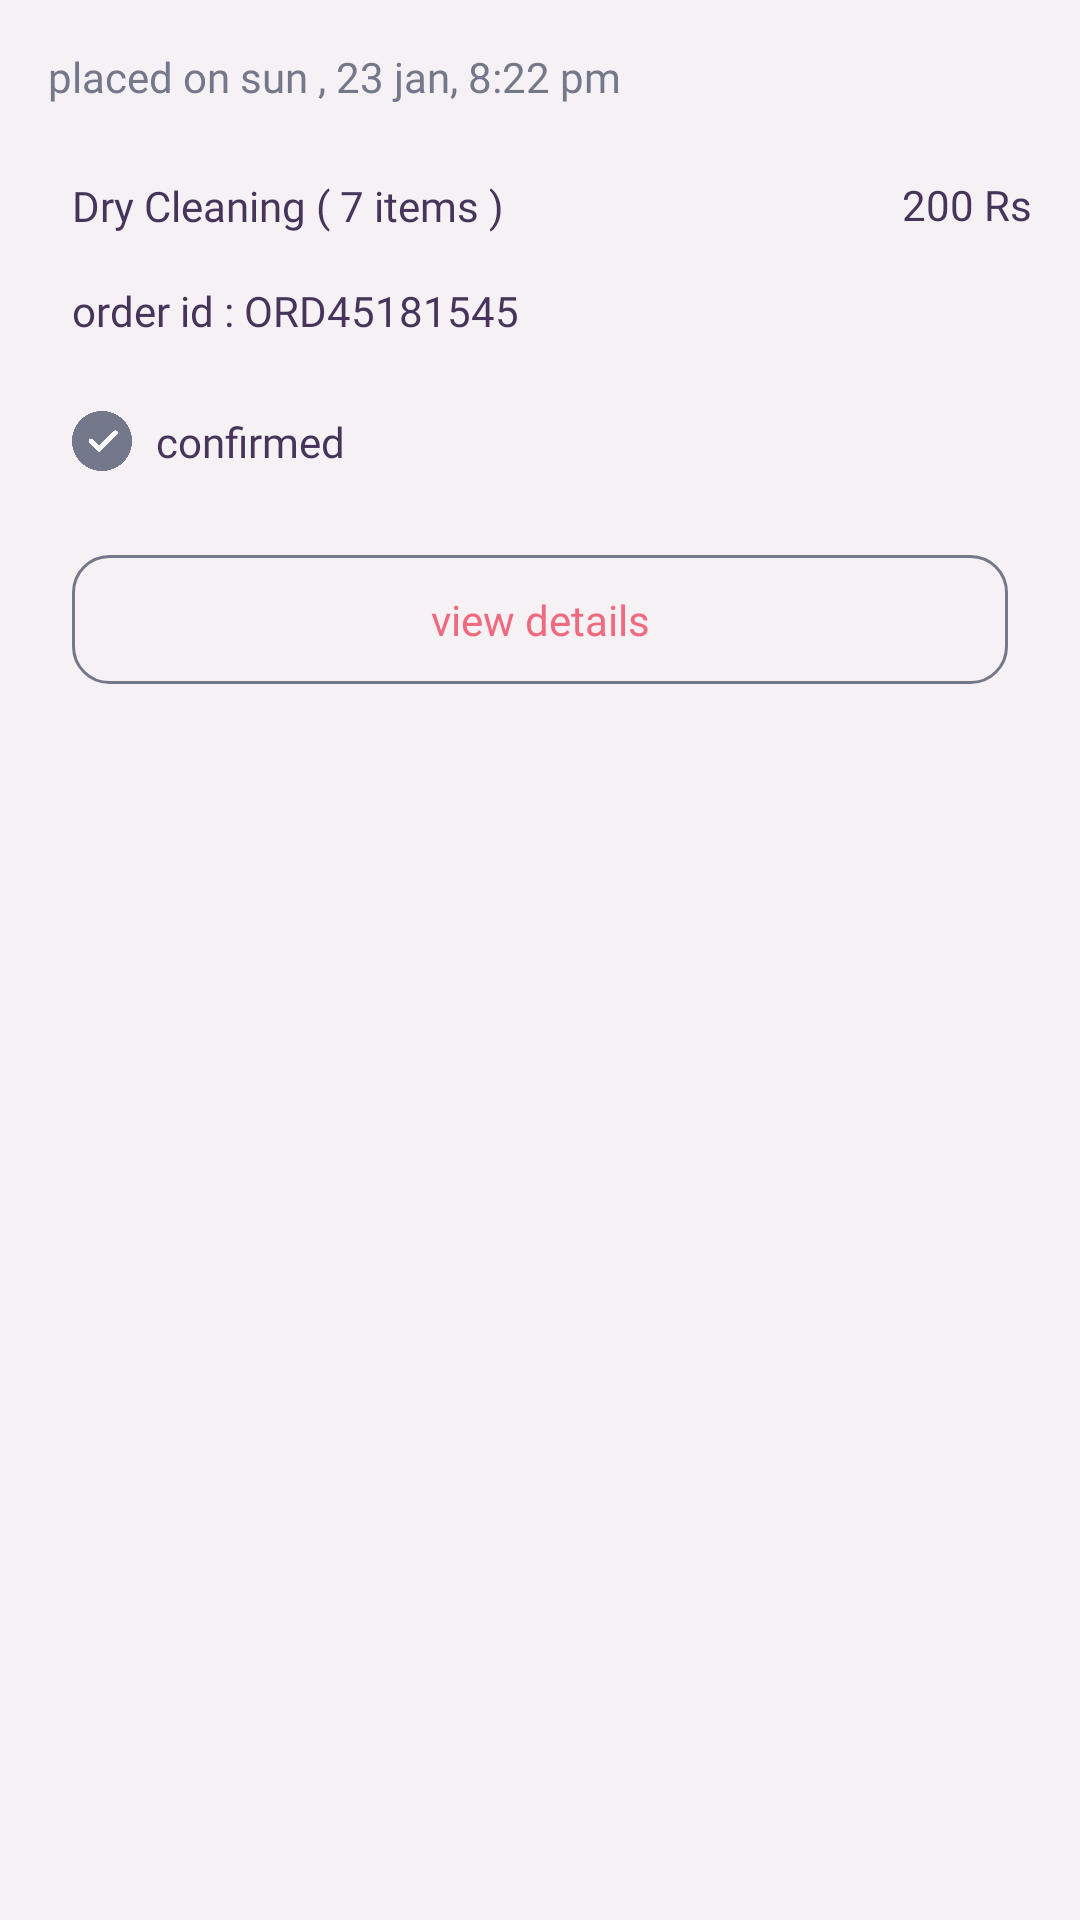

Icons on this 1080w x 1920h Android screen, each with the point to tap as (x=x, y=y):
check: (x=102, y=441)
